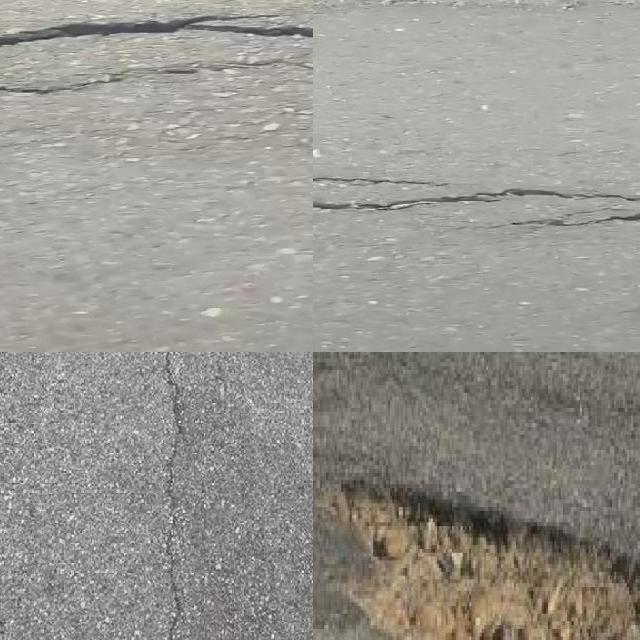Lubang: (340, 481, 640, 640)
Melintang: (313, 158, 640, 235), (0, 3, 313, 66)
Memanjang: (148, 352, 201, 640)
